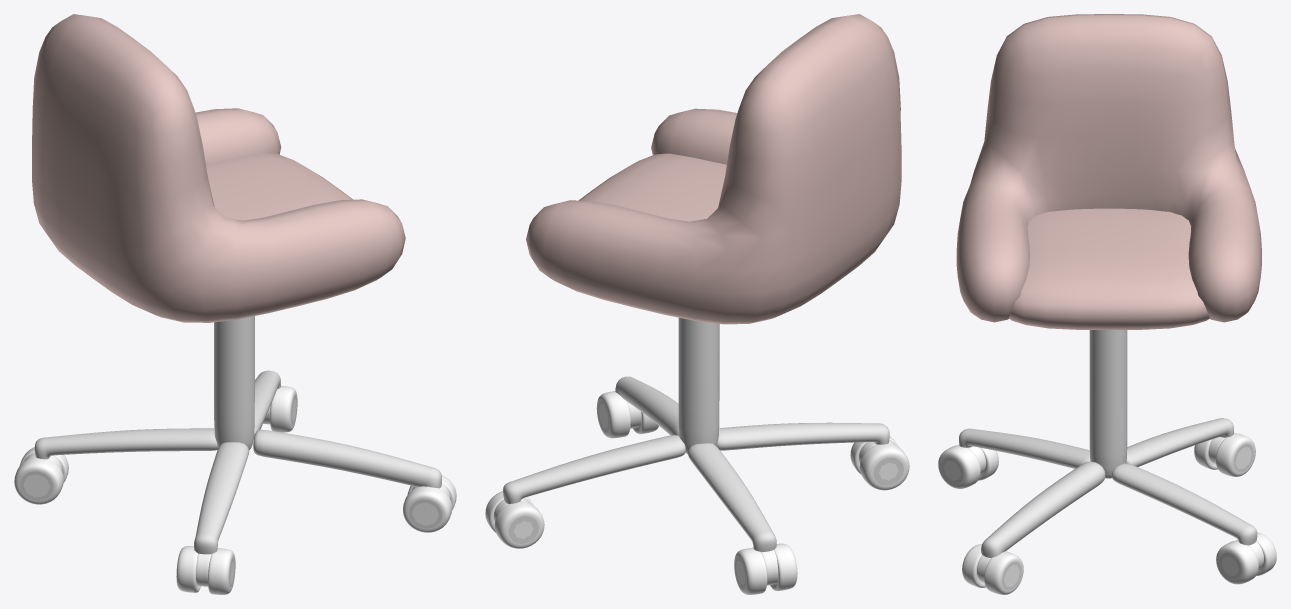
File: chair2.glb
3 views of the same model, side by side, from view 1: azimuth 30°, elevation 25°; view 2: azimuth 150°, elevation 25°; view 3: azimuth 270°, elevation 25° (orthographic). The views are drawn at different scales.
Visible parts, largest first — view 1: chair.001, Cube.053, Cylinder.006, chair leg w wheels.001, chair leg w wheels.003, chair leg w wheels, Circle.025, Circle.024, Circle.023, Circle.026, chair leg w wheels.002; view 2: chair.001, Cube.053, Cylinder.006, chair leg w wheels.002, chair leg w wheels, chair leg w wheels.003, Circle.024, Circle.026, Circle.025, chair leg w wheels.001, Circle.023; view 3: chair.001, Cube.053, Cylinder.006, chair leg w wheels.001, chair leg w wheels.002, chair leg w wheels, chair leg w wheels.003, Circle.023, Circle.026, Circle.025, Circle.024.
Part boxes in pixels (x1,y1,x2,y2): chair.001: [32, 14, 405, 322]; Cube.053: [205, 153, 352, 220]; Cylinder.006: [214, 316, 254, 449]; chair leg w wheels.001: [253, 429, 441, 488]; chair leg w wheels.003: [34, 428, 218, 459]; chair leg w wheels: [194, 442, 249, 554]; Circle.025: [176, 546, 235, 594]; Circle.024: [14, 447, 68, 504]; Circle.023: [403, 475, 456, 532]; Circle.026: [260, 385, 297, 432]; chair leg w wheels.002: [253, 370, 280, 438]; chair.001: [526, 14, 901, 324]; Cube.053: [579, 153, 726, 221]; Cylinder.006: [678, 317, 719, 453]; chair leg w wheels.002: [503, 435, 685, 503]; chair leg w wheels: [716, 422, 889, 450]; chair leg w wheels.003: [687, 443, 776, 552]; Circle.024: [734, 543, 797, 594]; Circle.026: [485, 491, 544, 548]; Circle.025: [850, 436, 909, 490]; chair leg w wheels.001: [615, 376, 678, 435]; Circle.023: [596, 391, 658, 438]; chair.001: [956, 14, 1261, 322]; Cube.053: [1008, 208, 1209, 329]; Cylinder.006: [1089, 330, 1127, 478]; chair leg w wheels.001: [981, 461, 1105, 557]; chair leg w wheels.002: [1111, 463, 1257, 545]; chair leg w wheels: [959, 428, 1090, 468]; chair leg w wheels.003: [1126, 418, 1233, 466]; Circle.023: [962, 544, 1023, 594]; Circle.026: [1216, 532, 1276, 584]; Circle.025: [938, 444, 998, 488]; Circle.024: [1194, 432, 1255, 476].
Size of the model in its own units: 0.5772 by 0.8641 by 0.5744.
